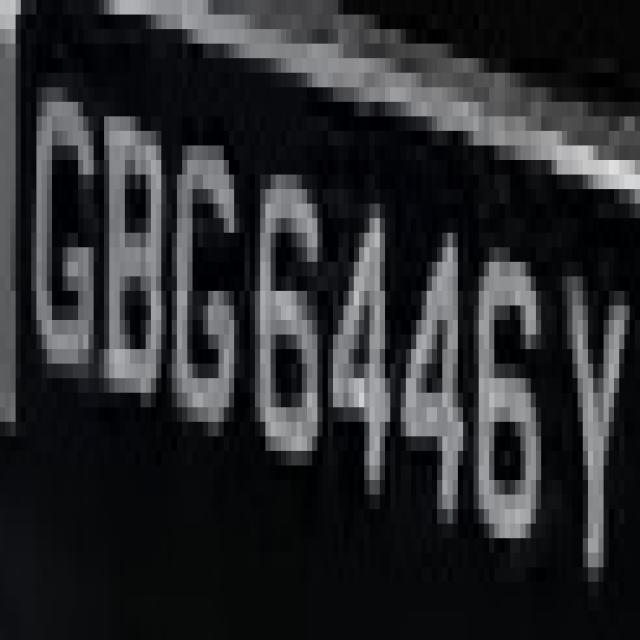4: (317, 146, 406, 538), (385, 189, 468, 538)
6: (244, 116, 328, 524), (468, 204, 546, 582)
B: (88, 87, 166, 480)
G: (31, 44, 104, 407), (177, 116, 255, 451)
Y: (546, 218, 630, 626)
